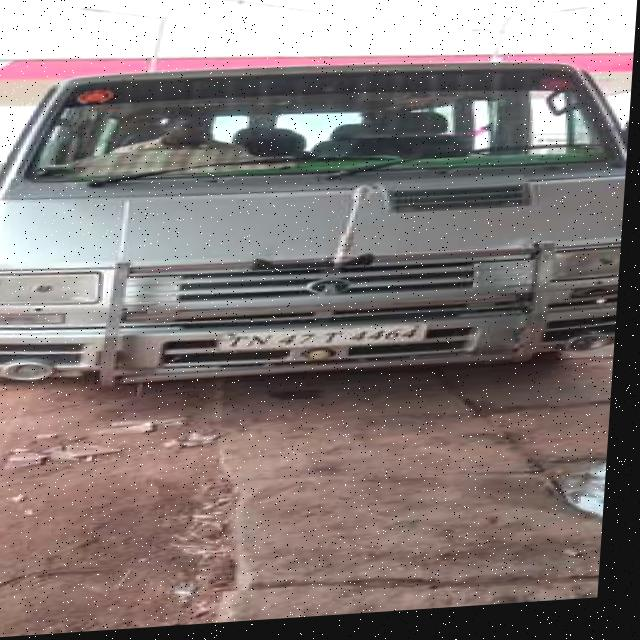plate: (229, 325, 435, 356)
